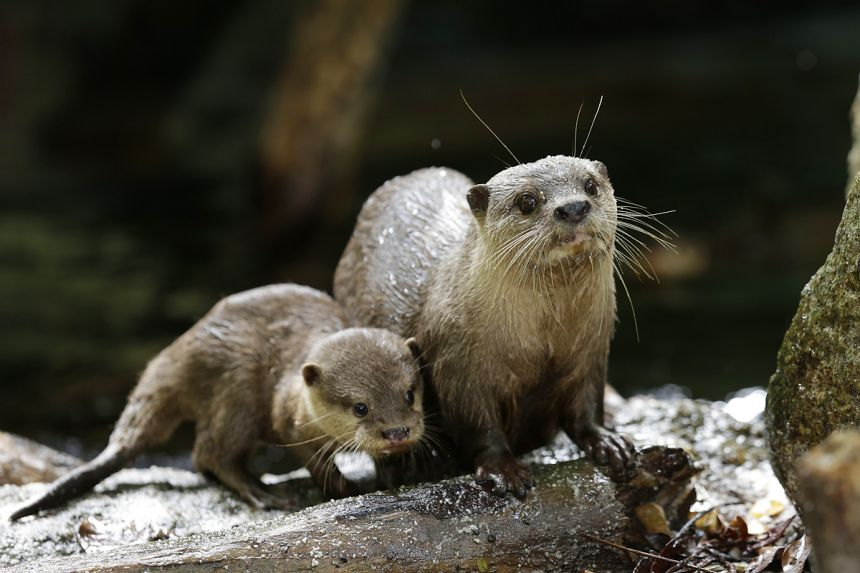otter: (338, 148, 639, 490), (7, 288, 430, 520)
